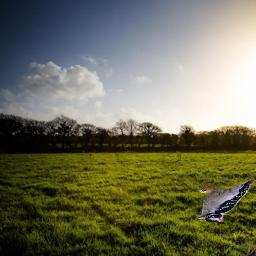Woodpecker: (196, 178, 254, 223)
